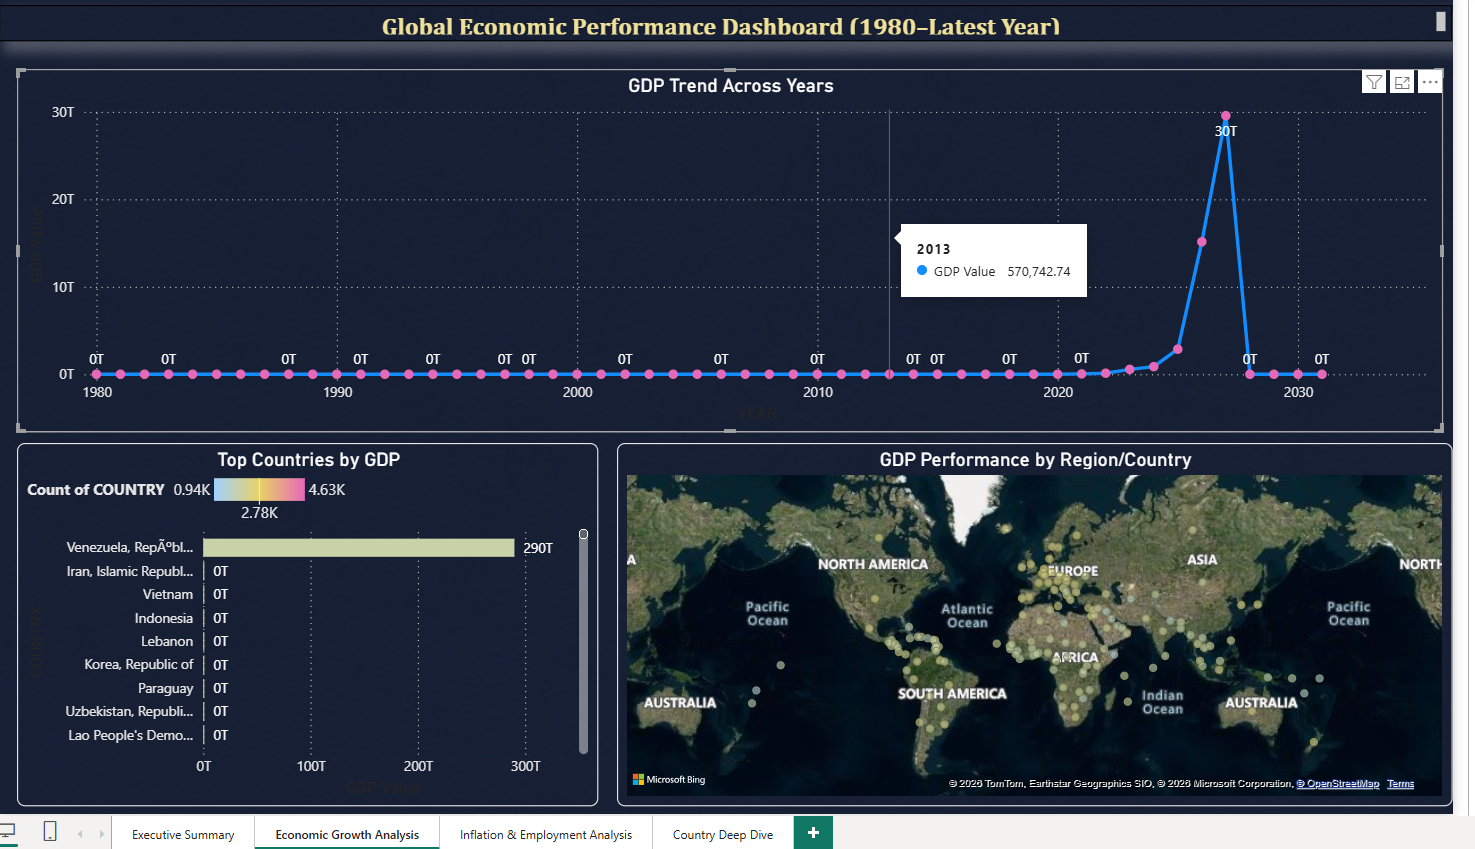

This screenshot's page, from the dashboard's own definition file:
{"tool":"powerbi","page":{"name":"Economic Growth Analysis","canvas":[1280,720],"ordinal":1},"visuals":[{"type":"textbox","box":[0,8,1280,32],"z":0},{"type":"lineChart","title":"GDP Trend Across Years","fields":{"Category":["weo_clean.YEAR"],"Y":["weo_clean.GDP Value"]},"box":[16,64,512,320],"z":1000},{"type":"clusteredBarChart","title":"Top Countries by GDP","fields":{"Category":["weo_clean.COUNTRY"],"Y":["weo_clean.GDP Value"]},"box":[16,394,512,320],"z":2000},{"type":"treemap","title":"GDP Distribution Across Countries","fields":{"Values":["weo_clean.Avg Value"],"Group":["weo_clean.COUNTRY"]},"box":[544,64,736,320],"z":3000},{"type":"map","title":"GDP Performance by Region/Country","fields":{"Category":["weo_clean.COUNTRY"],"X":["weo_clean.GDP Value"]},"box":[544,394,736,320],"z":4000}]}

Visuals, with their boxes in screenshot pixels (x1, y1, x2, y2):
textbox: crop(0, 5, 1447, 42)
"GDP Trend Across Years" lineChart: crop(11, 69, 592, 433)
"Top Countries by GDP" clusteredBarChart: crop(11, 444, 592, 808)
"GDP Distribution Across Countries" treemap: crop(611, 69, 1447, 433)
"GDP Performance by Region/Country" map: crop(611, 444, 1447, 808)
